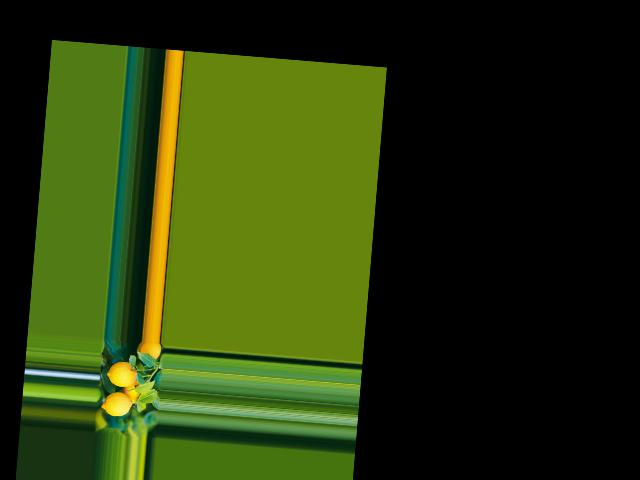lemon: (101, 392, 133, 417)
